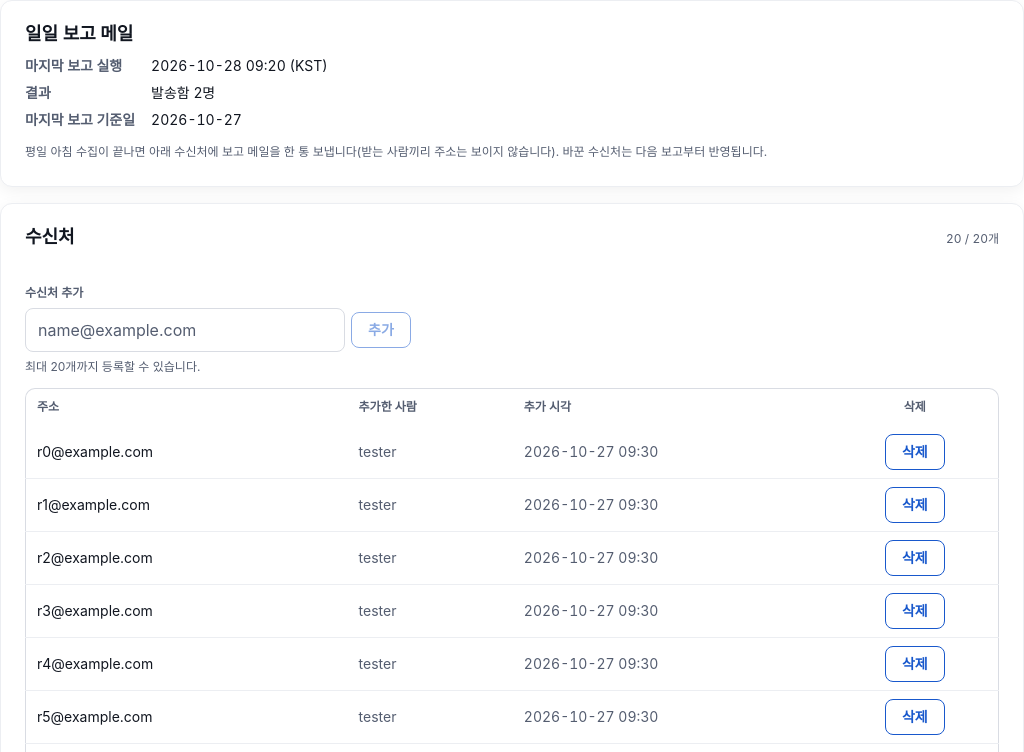
추가 › 20개면 더 추가하지 않고 안내
Expected: the text "최대 20개까지 등록할 수 있습니다." is shown, [25,358,200,374]
In the field labelled "수신처 추가": (185, 330) [25,308,345,352], type "more@example.com"
Then press Enter
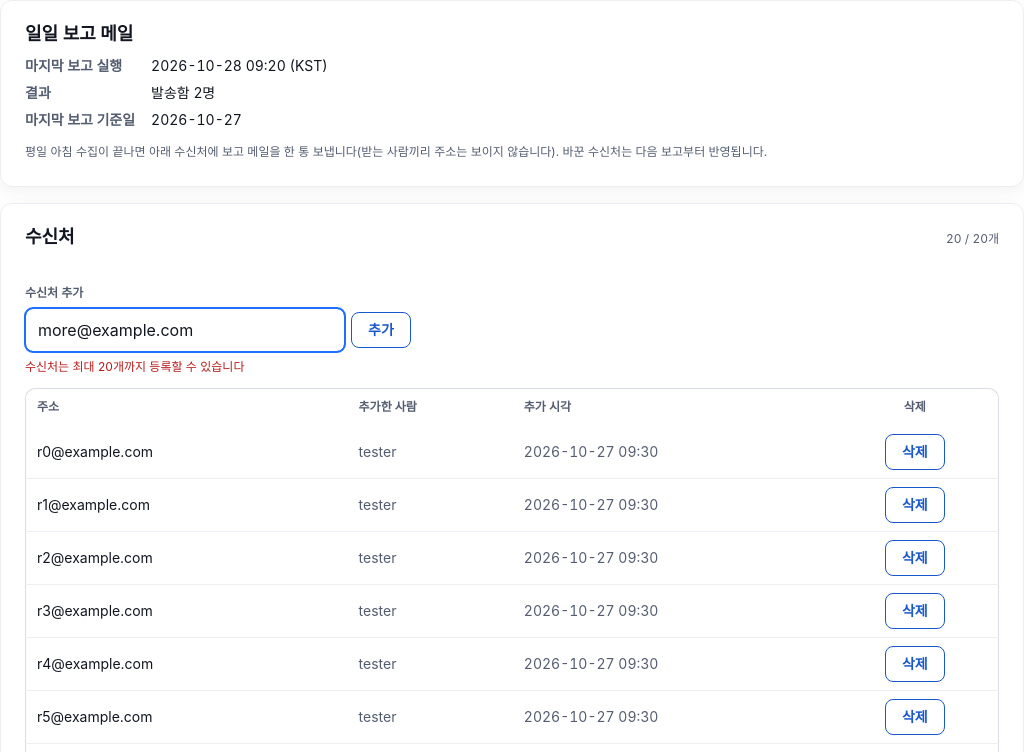
Result: the message "수신처는 최대 20개까지 등록할 수 있습니다" is shown at [25,358,244,374]
